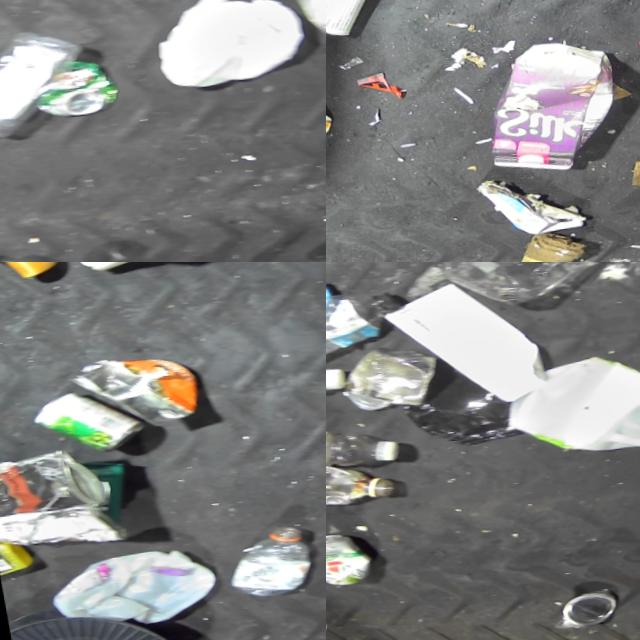can: (58, 347, 202, 435), (21, 380, 146, 459), (326, 335, 444, 418), (26, 55, 118, 118), (326, 517, 382, 595), (613, 24, 640, 104)
milk_jug: (485, 342, 640, 467), (33, 538, 216, 634), (136, 0, 313, 90)
plastic_bottle: (212, 518, 312, 599), (326, 283, 406, 370), (326, 412, 407, 470)
